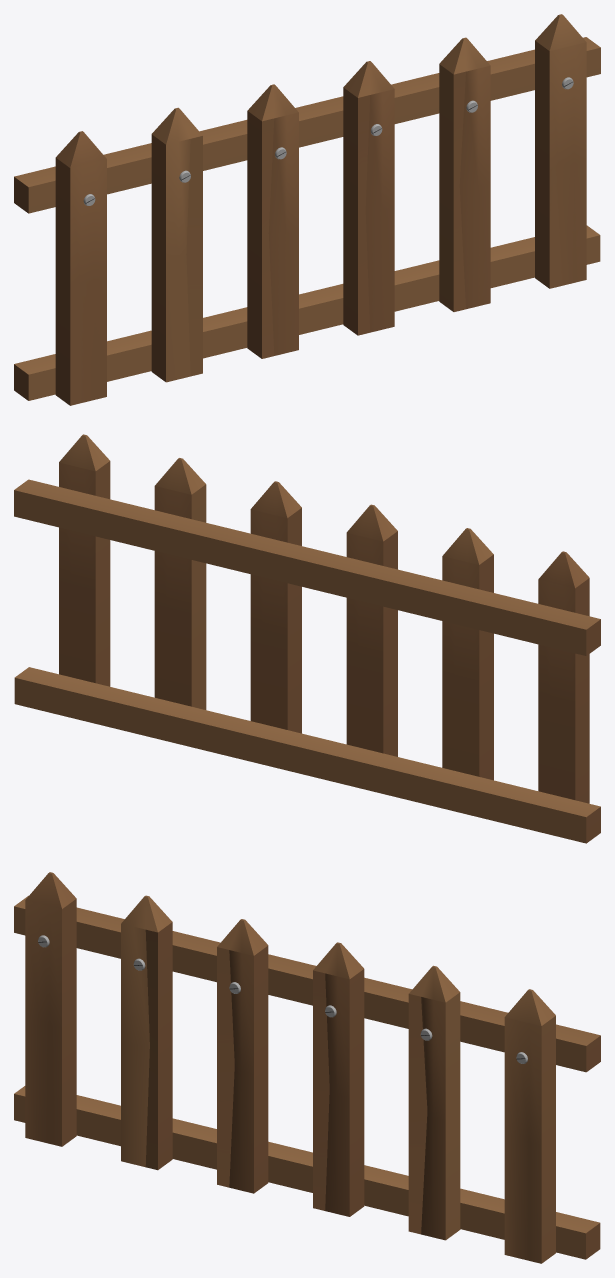
The model's file is Fence.fbx.
3 renders of one model, top to bottom at view 1: azimuth 30°, elevation 25°; view 2: azimuth 150°, elevation 25°; view 3: azimuth 330°, elevation 25°, orthographic.
Parts seen in each view (by area): view 1: Cube.001; view 2: Cube.001; view 3: Cube.001.
Boxes of the visible parts, x1,y1,x2,y2 form: Cube.001: (14,14,600,405); Cube.001: (14,434,600,843); Cube.001: (14,872,600,1263).
Size of the model in its own units: 11.34 by 5 by 1.07.
Materials: 1 (1 with a texture image).
